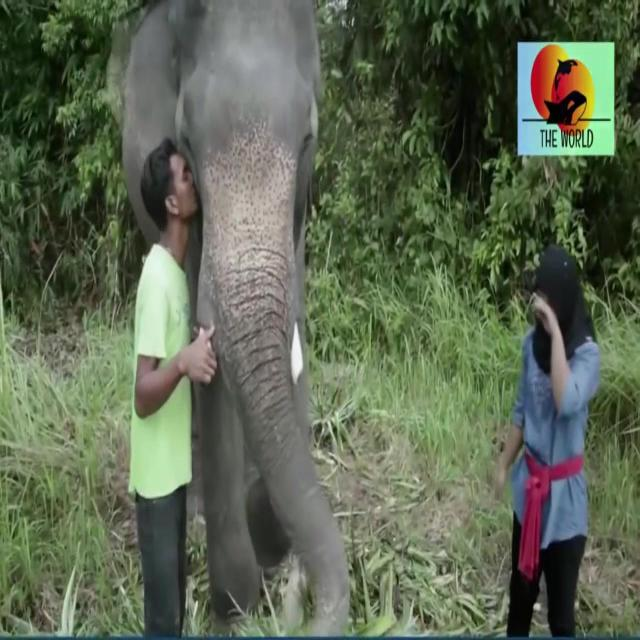Elephant: (132, 0, 361, 593)
